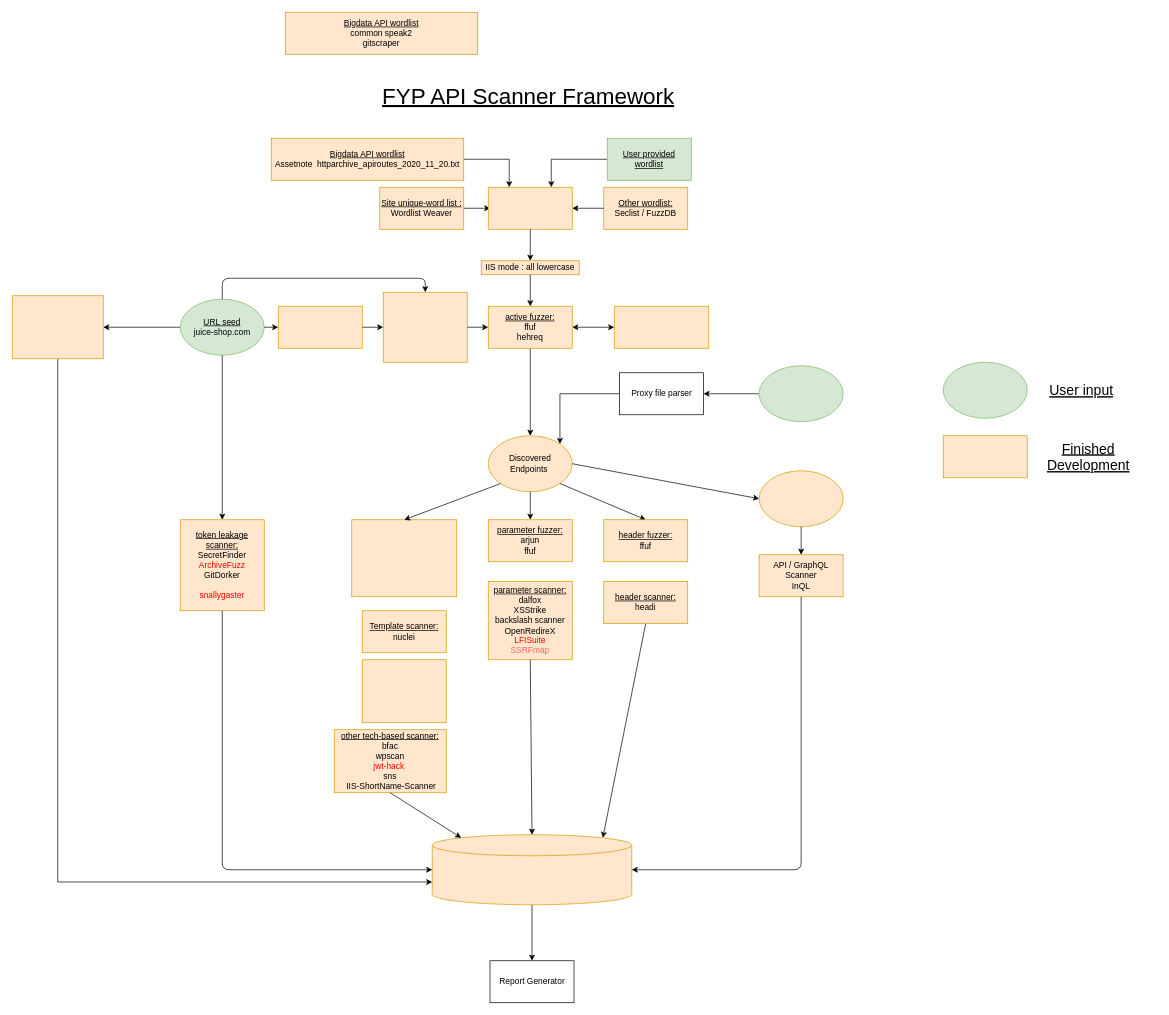
The diagram is 1169 pixels wide and 1015 high, and some of its shapes have lost their labels. The shapes that lost their labels are listed below. From the top down, each one's centre as x and y in pixels, then its label:
At [530,208]: "Wordlist cleanser: clean_wordlist".
At [57,327]: "Web Vulnerability Scanner: nitko Arachni ZAP".
At [320,327]: "passive crawler: Waybackurls urlhunter gau".
At [425,327]: "active crawler : Hakwcrawl Gospider Burp extract-relative-url-heapsnapshot".
At [661,327]: "Authorization scanner: bypass-403 byp4xx".
At [800,393]: "Proxy project file".
At [800,498]: "Discovered API Endpoints".
At [404,558]: "technology fingerprint: nuclei intrigue-ident FavFreak whatweb wafw00f".
At [404,691]: "Reverse proxy scanner: smuggler.py gixy weird_proxies".
At [532,869]: "Database".
